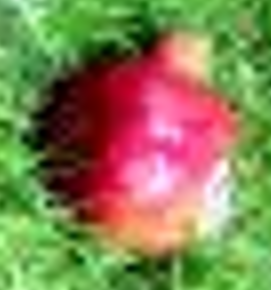pomegranate_B: (47, 29, 244, 261)
